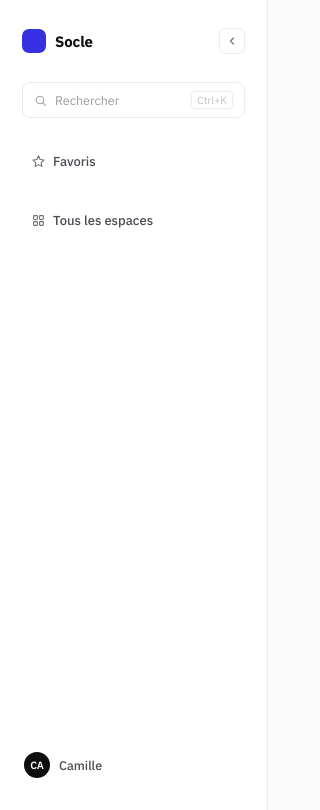
Test: ShellSidebar › bascule le menu réduit et agrandi, et mémorise le choix
Click the button named "Réduire ou agrandir le menu". click: (232,41)
box: [219, 28, 245, 54]
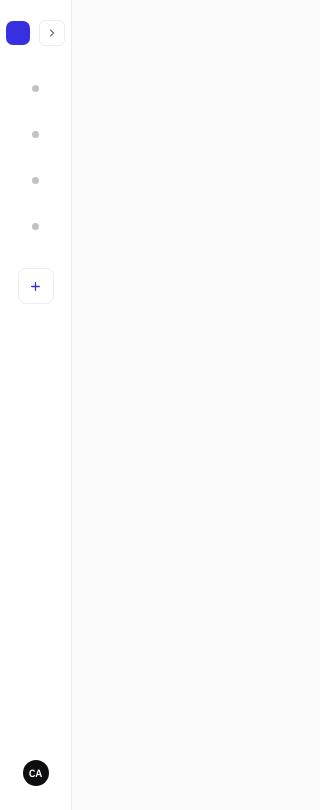
Result: the button named "Réduire ou agrandir le menu" is collapsed
Click the button named "Réduire ou agrandir le menu". click: (52,33)
box: [39, 20, 65, 46]
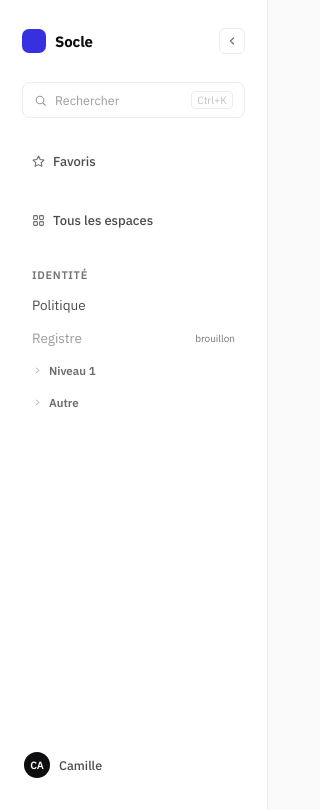
Result: the button named "Réduire ou agrandir le menu" is expanded at [219, 28, 245, 54]
Result: the link "Politique" is shown at [32, 296, 86, 314]
